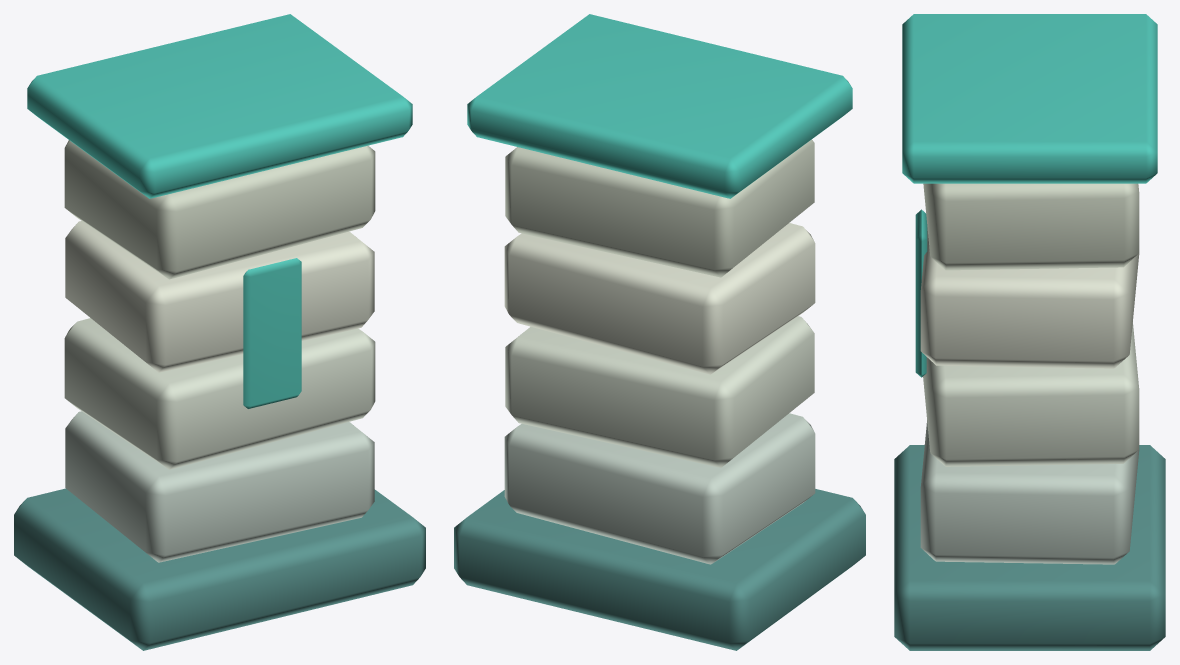
The model's file is pillar.glb.
3 views of the same model, side by side, from view 1: azimuth 30°, elevation 25°; view 2: azimuth 150°, elevation 25°; view 3: azimuth 270°, elevation 25° (orthographic). The views are drawn at different scales.
Parts seen in each view (by area): view 1: Pillar_top, Pillar_base, Pillar_block, Pillar_block.001, Pillar_block.003, Pillar_block.002; view 2: Pillar_top, Pillar_base, Pillar_block.002, Pillar_block, Pillar_block.001, Pillar_block.003; view 3: Pillar_top, Pillar_base, Pillar_block.002, Pillar_block, Pillar_block.001, Pillar_block.003.
Part boxes in pixels (bbox=[...]): Pillar_top: bbox=[27, 14, 412, 408]; Pillar_base: bbox=[14, 488, 425, 650]; Pillar_block: bbox=[65, 411, 374, 562]; Pillar_block.001: bbox=[64, 318, 375, 469]; Pillar_block.003: bbox=[64, 140, 375, 279]; Pillar_block.002: bbox=[65, 221, 374, 372]; Pillar_top: bbox=[467, 14, 852, 198]; Pillar_base: bbox=[454, 489, 865, 650]; Pillar_block.002: bbox=[504, 223, 815, 374]; Pillar_block: bbox=[504, 413, 815, 564]; Pillar_block.001: bbox=[505, 316, 814, 467]; Pillar_block.003: bbox=[505, 139, 814, 277]; Pillar_top: bbox=[902, 14, 1157, 377]; Pillar_base: bbox=[894, 445, 1165, 650]; Pillar_block.002: bbox=[920, 227, 1139, 368]; Pillar_block: bbox=[920, 420, 1139, 564]; Pillar_block.001: bbox=[923, 322, 1139, 466]; Pillar_block.003: bbox=[923, 183, 1139, 270].
Size of the model in its own units: 1.82 by 2.88 by 1.4.
